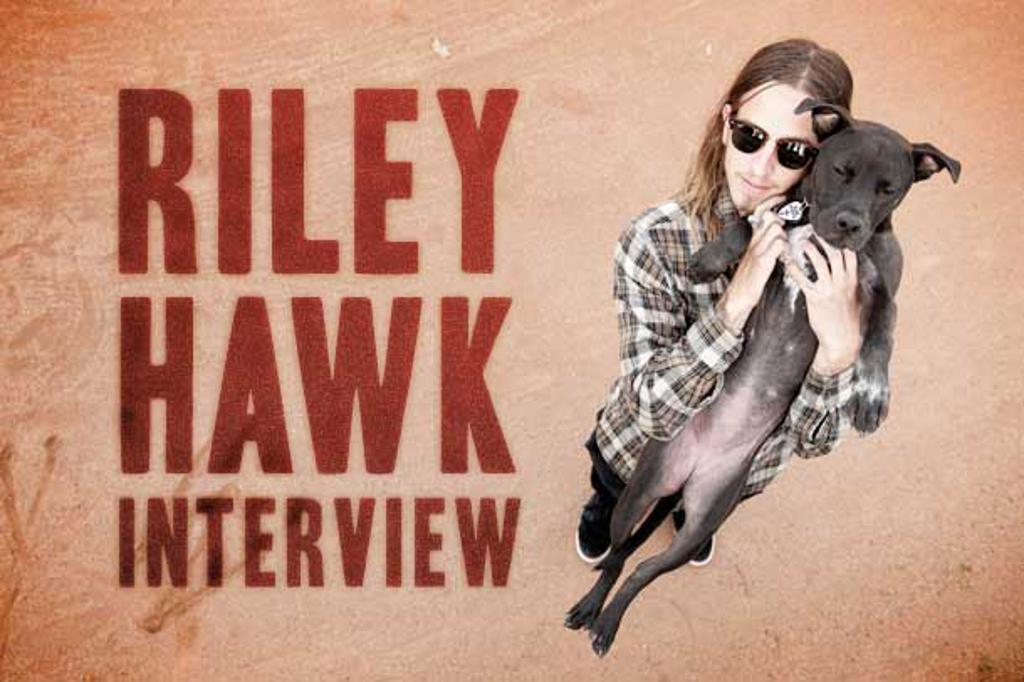face: (724, 90, 804, 214)
